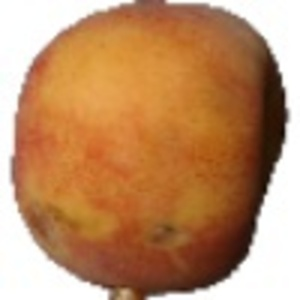pêssego: (3, 1, 289, 300)
